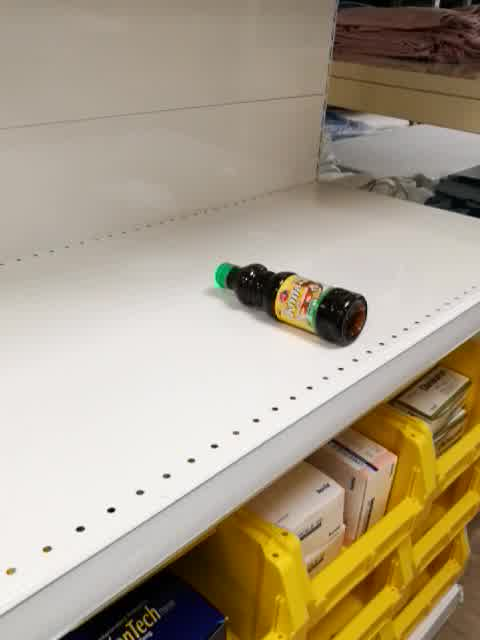cookingoil: (211, 260, 369, 349)
